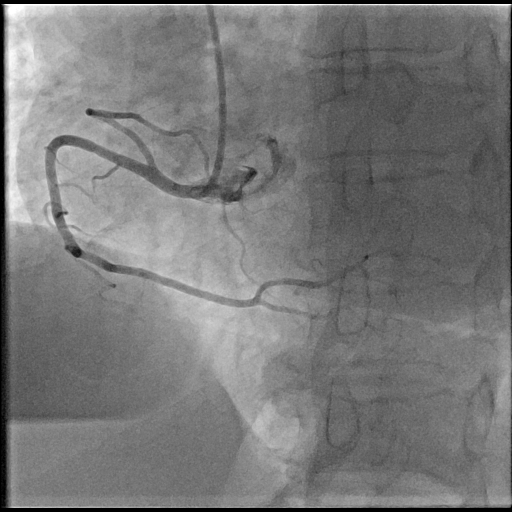RCA: (46, 107, 364, 318)
catherter: (198, 6, 226, 198)
